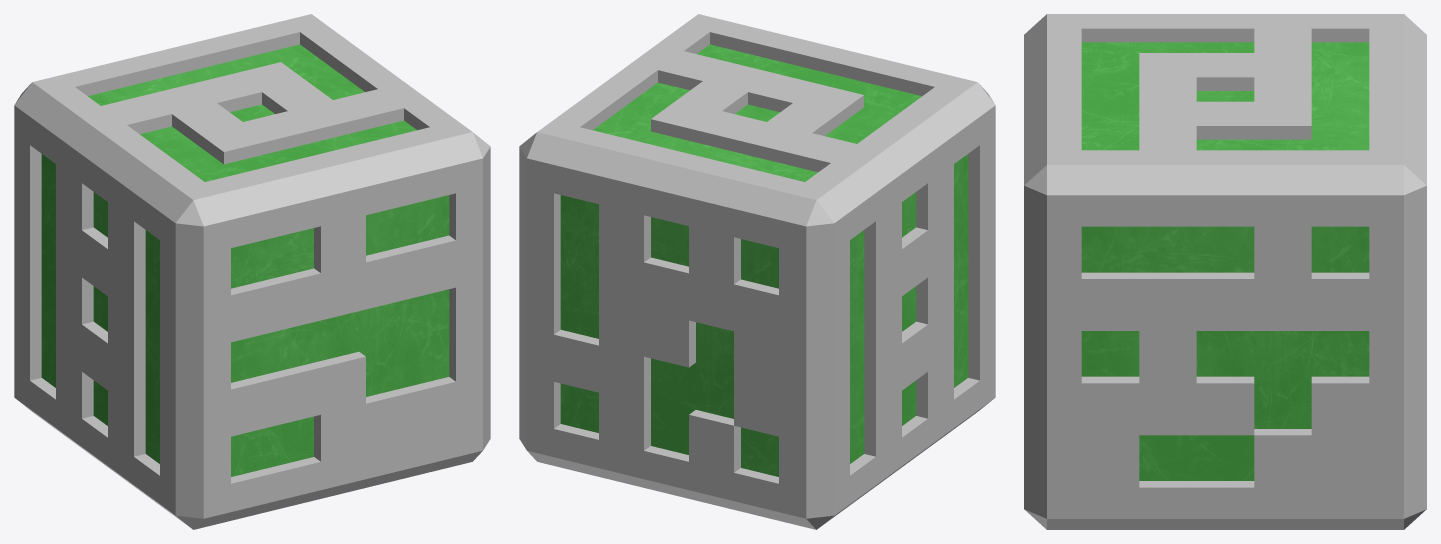
File: CyberCubeV2.fbx
3 renders of one model, left to right at view 1: azimuth 30°, elevation 25°; view 2: azimuth 150°, elevation 25°; view 3: azimuth 270°, elevation 25°, orthographic. The views are drawn at different scales.
Parts seen in each view (by area): view 1: Box001; view 2: Box001; view 3: Box001.
Part boxes in pixels (x1,y1,x2,y2): Box001: [14, 14, 490, 529]; Box001: [519, 14, 995, 529]; Box001: [1024, 14, 1426, 529].
Bounding box in the file's own units: 40 × 40 × 40.
Materials: 7 (1 with a texture image).
